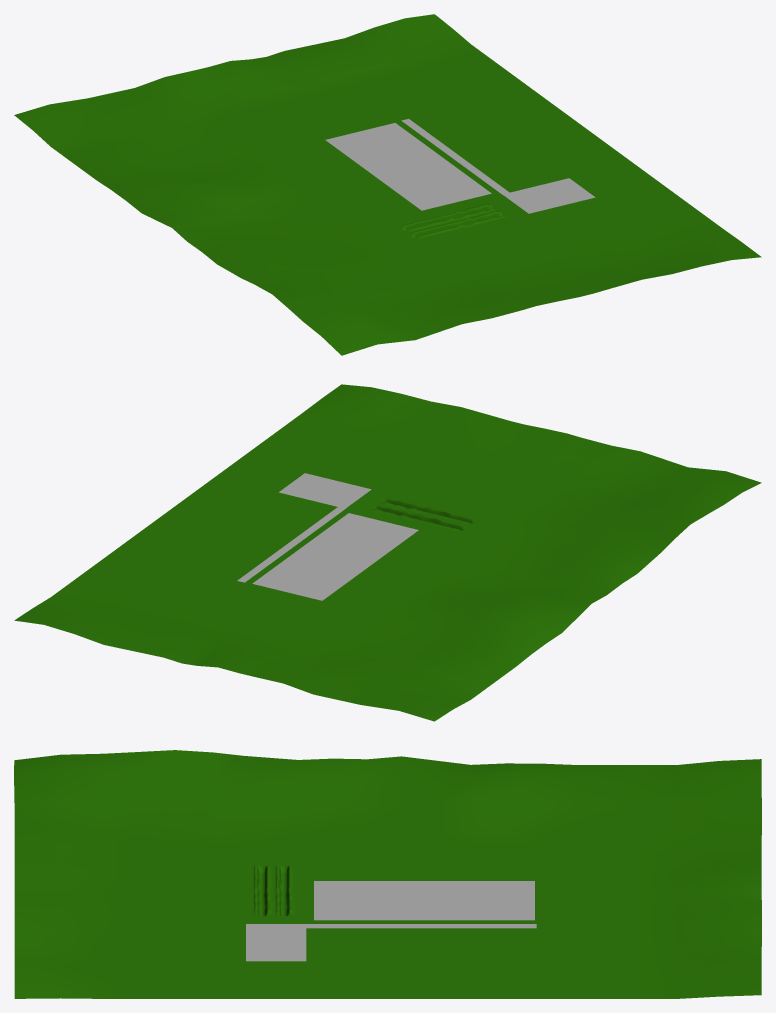
Rendered from Park.fbx.
The picture shows the model from 3 angles, top to bottom: view 1: azimuth 30°, elevation 25°; view 2: azimuth 150°, elevation 25°; view 3: azimuth 270°, elevation 25°; orthographic projection. The views are drawn at different scales.
Parts seen in each view (by area): view 1: WithTrench2, pPlane3, pPlane4, pPlane6; view 2: WithTrench2, pPlane3, pPlane4, pPlane6; view 3: WithTrench2, pPlane3, pPlane4, pPlane6.
Part boxes in pixels (bbox=[...]): WithTrench2: bbox=[14, 14, 761, 355]; pPlane3: bbox=[325, 123, 491, 210]; pPlane4: bbox=[504, 178, 595, 213]; pPlane6: bbox=[401, 119, 509, 195]; WithTrench2: bbox=[14, 384, 761, 721]; pPlane3: bbox=[252, 513, 418, 600]; pPlane4: bbox=[279, 473, 371, 508]; pPlane6: bbox=[237, 506, 346, 582]; WithTrench2: bbox=[14, 750, 761, 998]; pPlane3: bbox=[314, 881, 534, 920]; pPlane4: bbox=[246, 924, 306, 961]; pPlane6: bbox=[303, 924, 536, 928].
Bounding box in the file's own units: 531 × 21.82 × 716.
